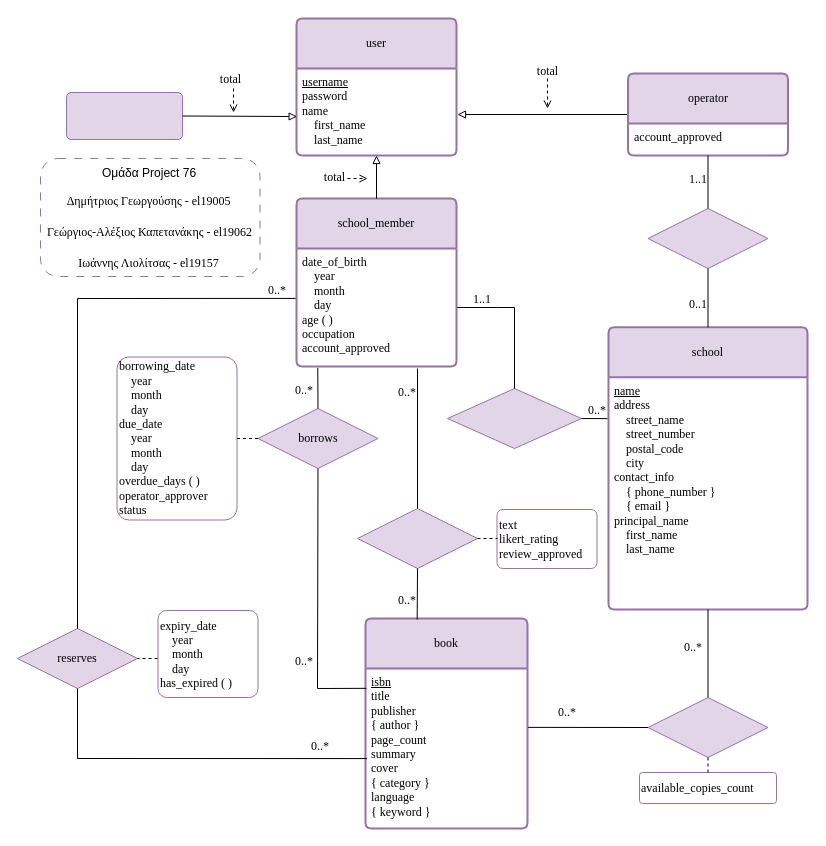
This 826x846 diagram has some shape labels left out. The centre of each missing label's shape, as x and y in pixels:
"administrator" belongs at point 124,116.
"book_belongs" belongs at point 707,727.
"member_belongs" belongs at point 514,418.
"operates" belongs at point 707,238.
"reviews" belongs at point 417,538.
